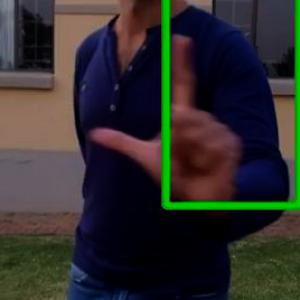land_hand: (85, 29, 245, 215)
